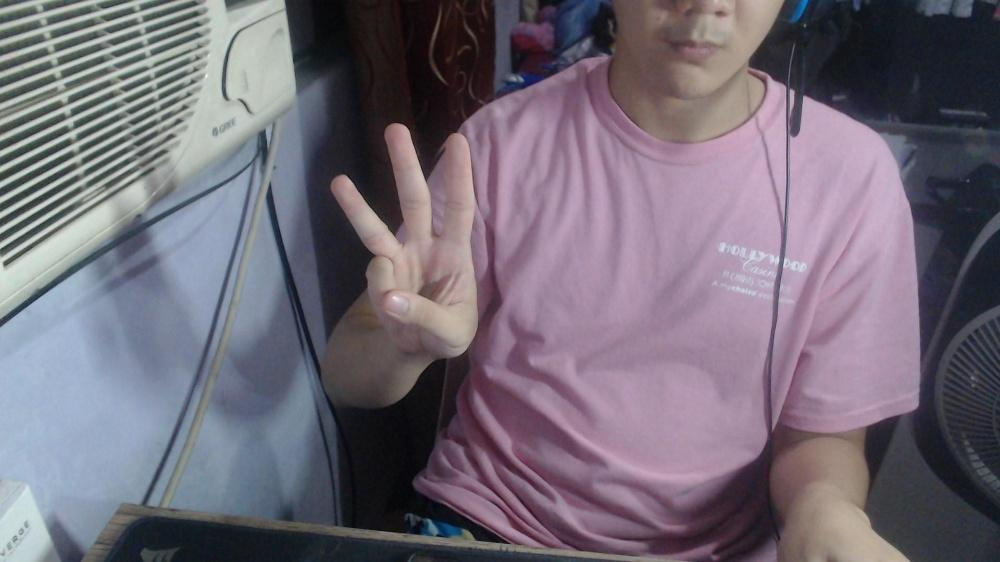w: (325, 118, 483, 363)
